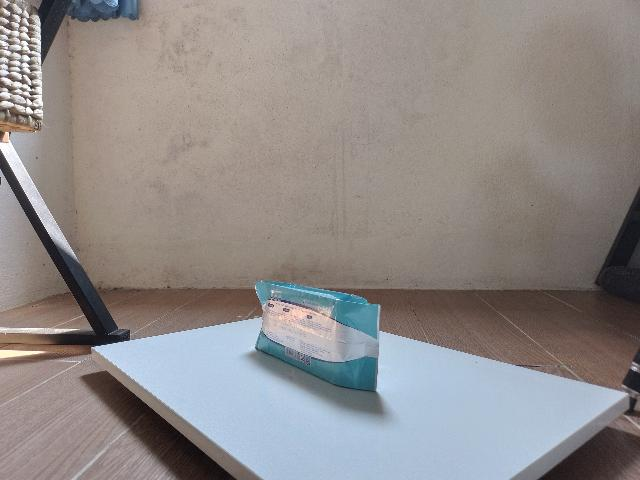Let-green_alcohol_wipes: (254, 281, 381, 394)
